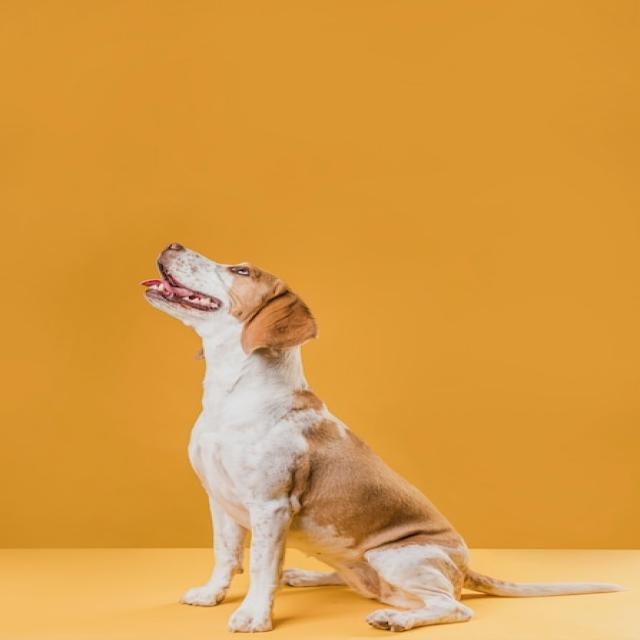Dog: (141, 242, 621, 632)
